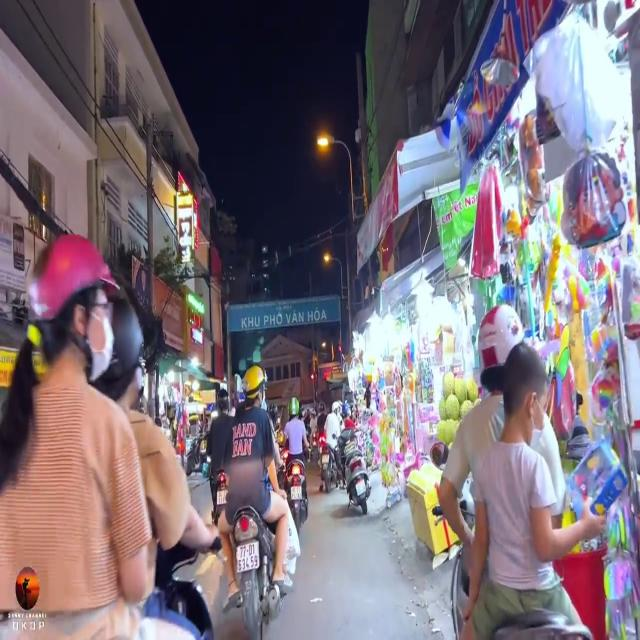bien_trang: (236, 540, 263, 578)
